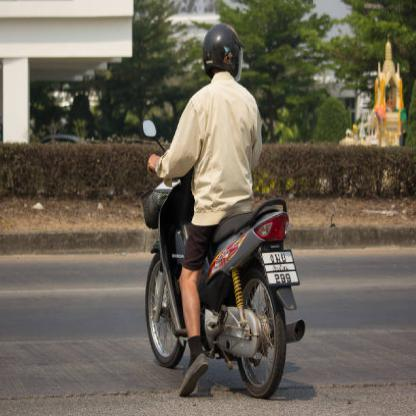Motorcycle: (130, 115, 302, 404)
